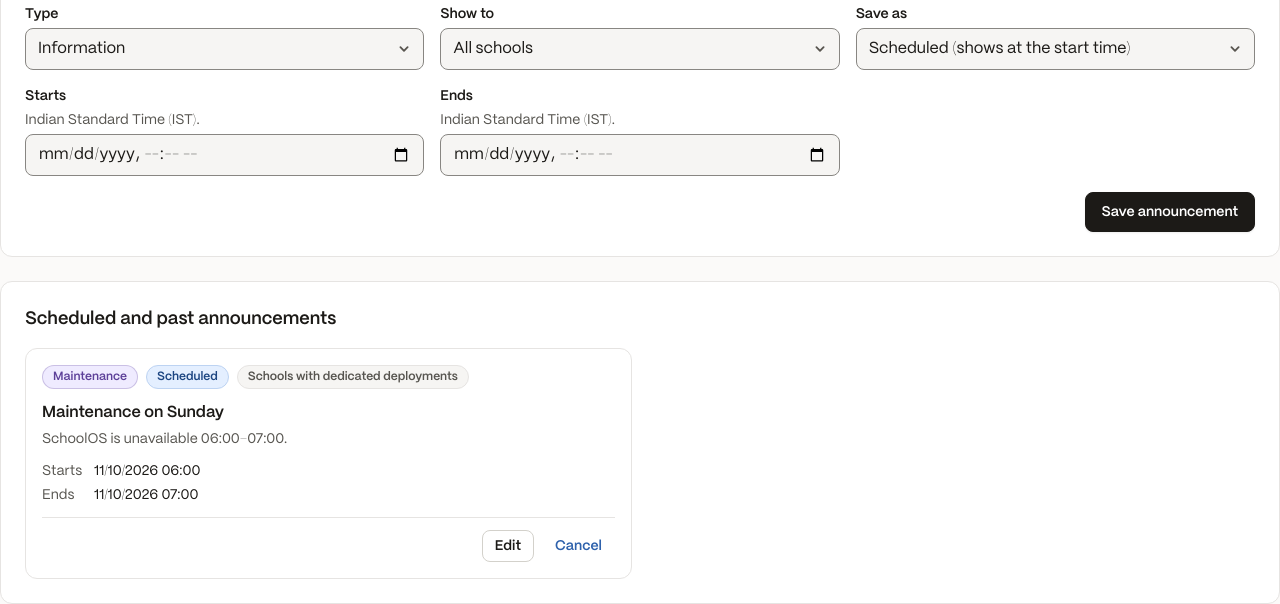
Test: edit an announcement (FR-PLT-026) › validates like a new announcement before sending
The width and height of the screenshot is (1280, 604).
(page scrolled)
Click the button "Edit" at (508, 546), box [482,530,534,562]
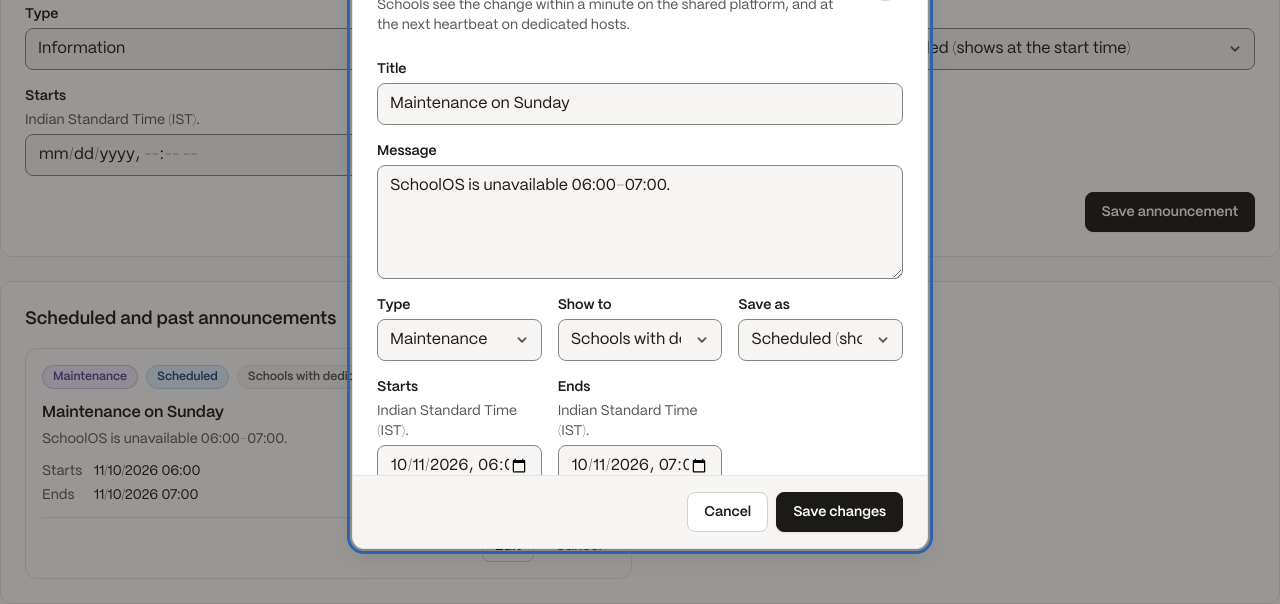
Clear the field labelled "Title" at (640, 104), box [377,82,903,124]
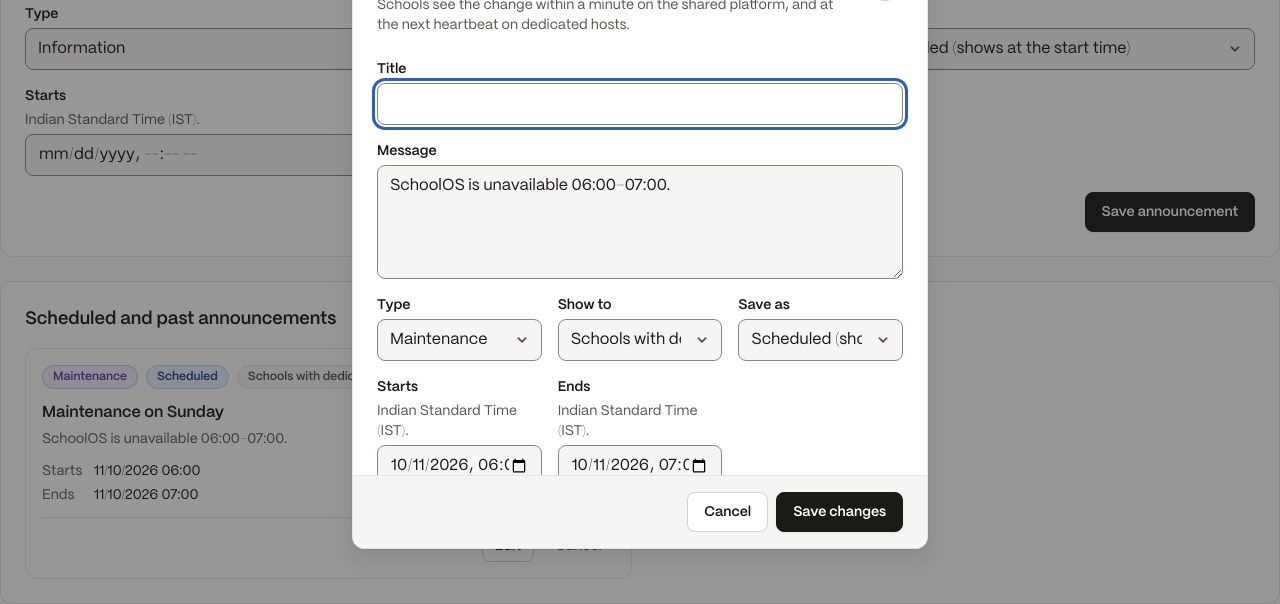
Clear the field labelled "Ends" at (640, 466), box [558,444,722,486]
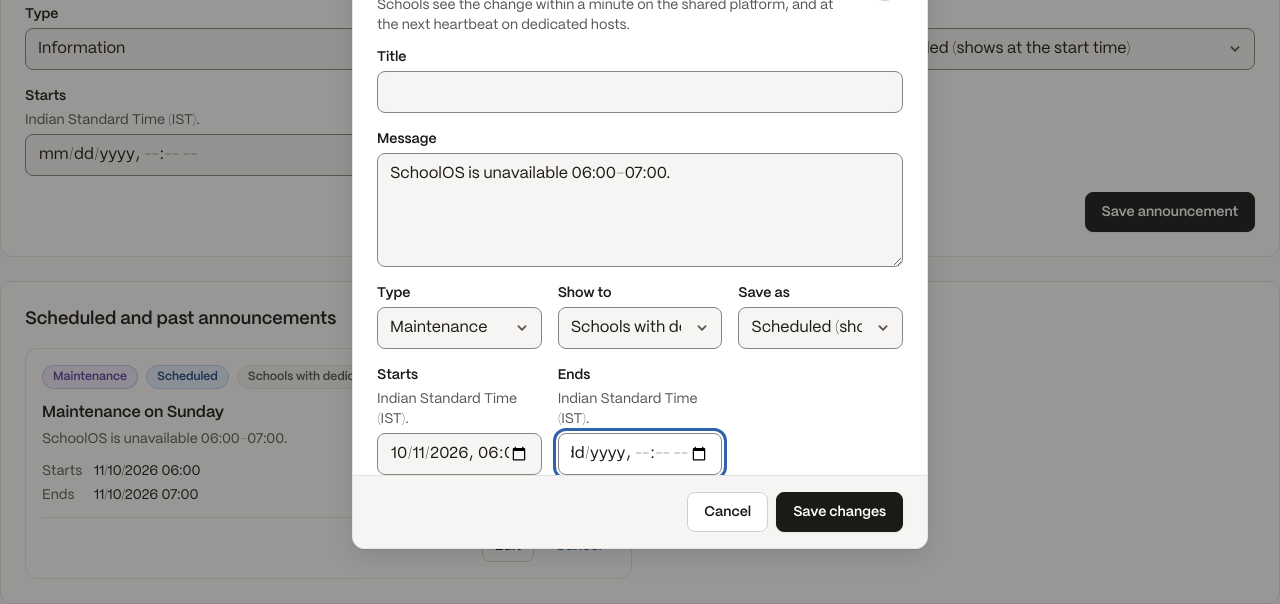
Type "2026-10-11T05:00" into the field labelled "Ends" at (640, 454), box [558,432,722,474]
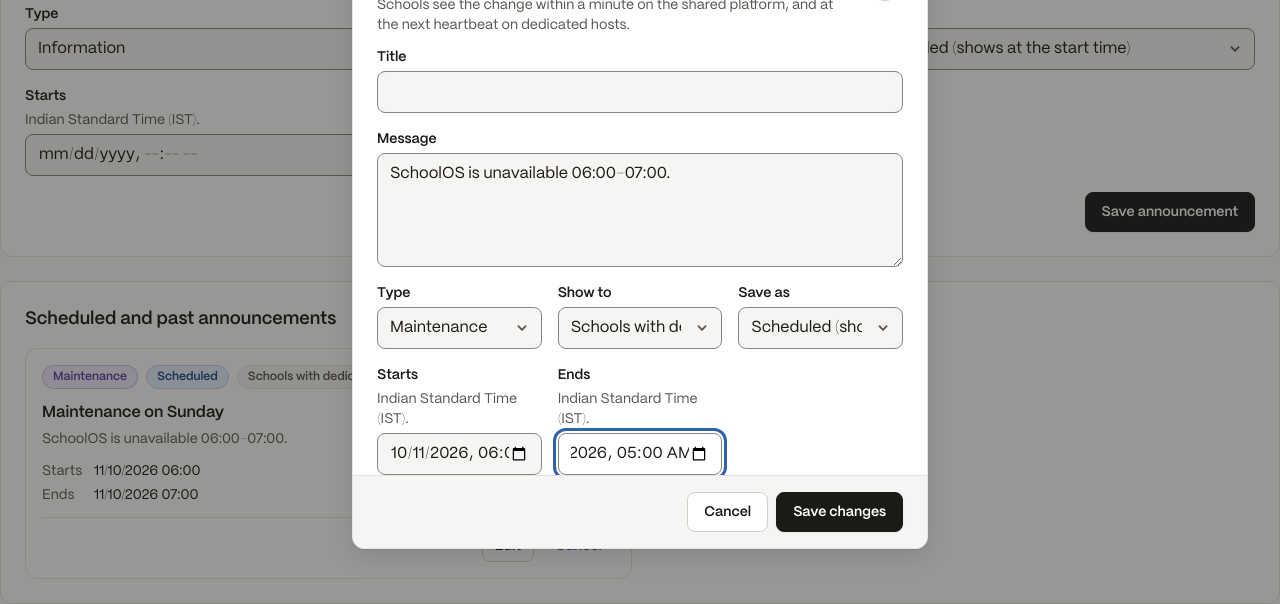
Click the button "Save changes" at (840, 512), box [776,492,903,532]
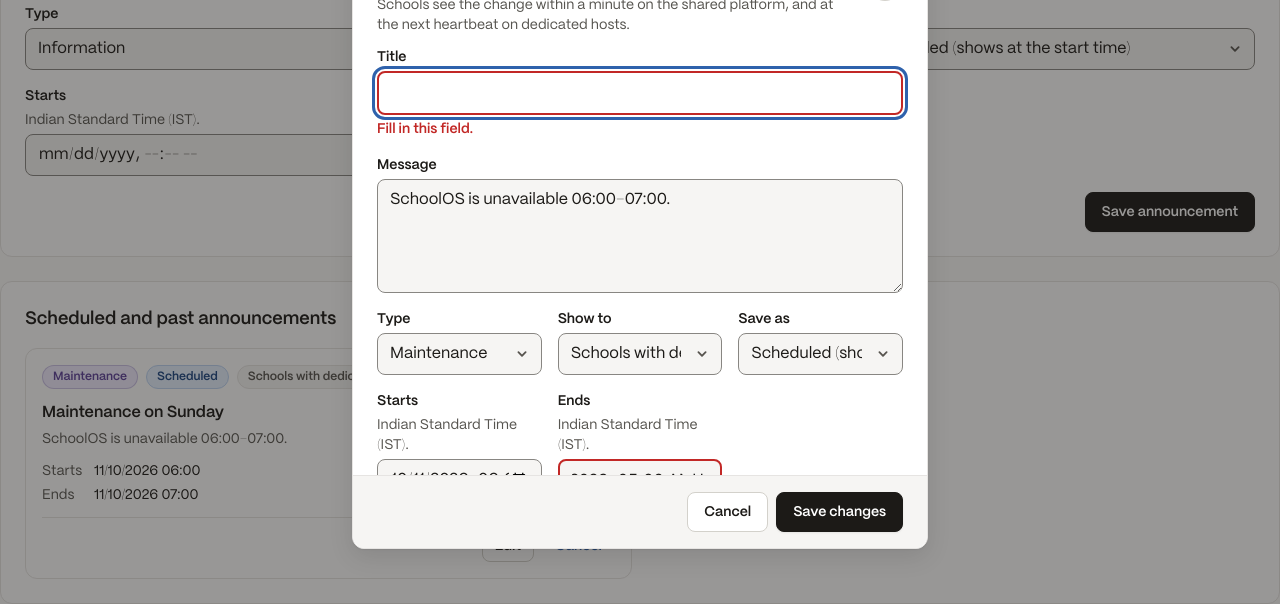
Result: the text "Fill in this field." is shown at [377,122,473,136]
